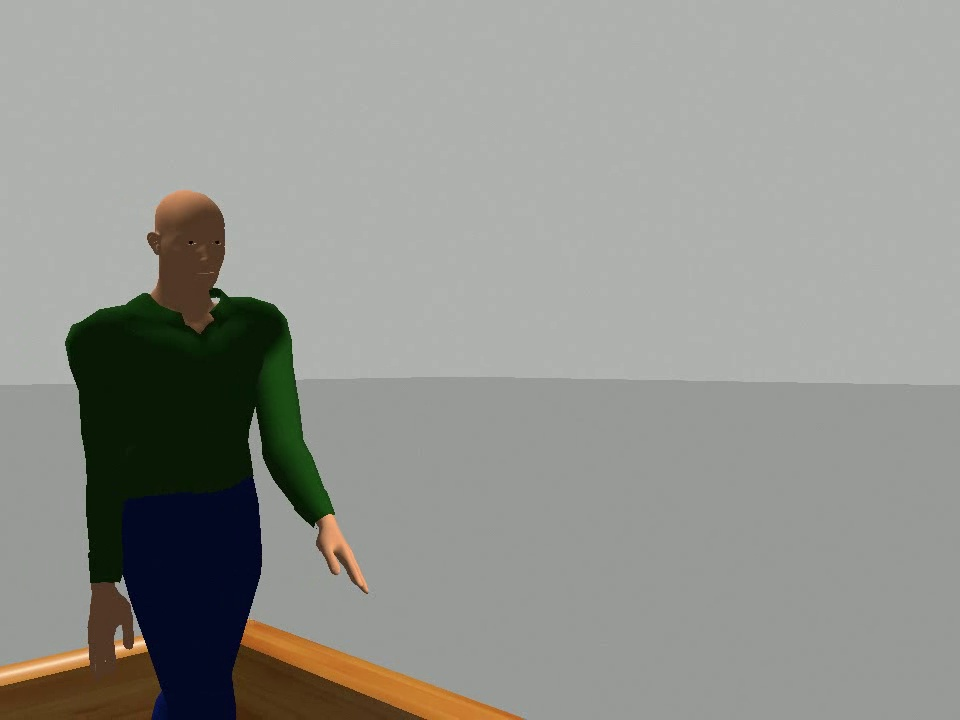person: (61, 183, 376, 720)
